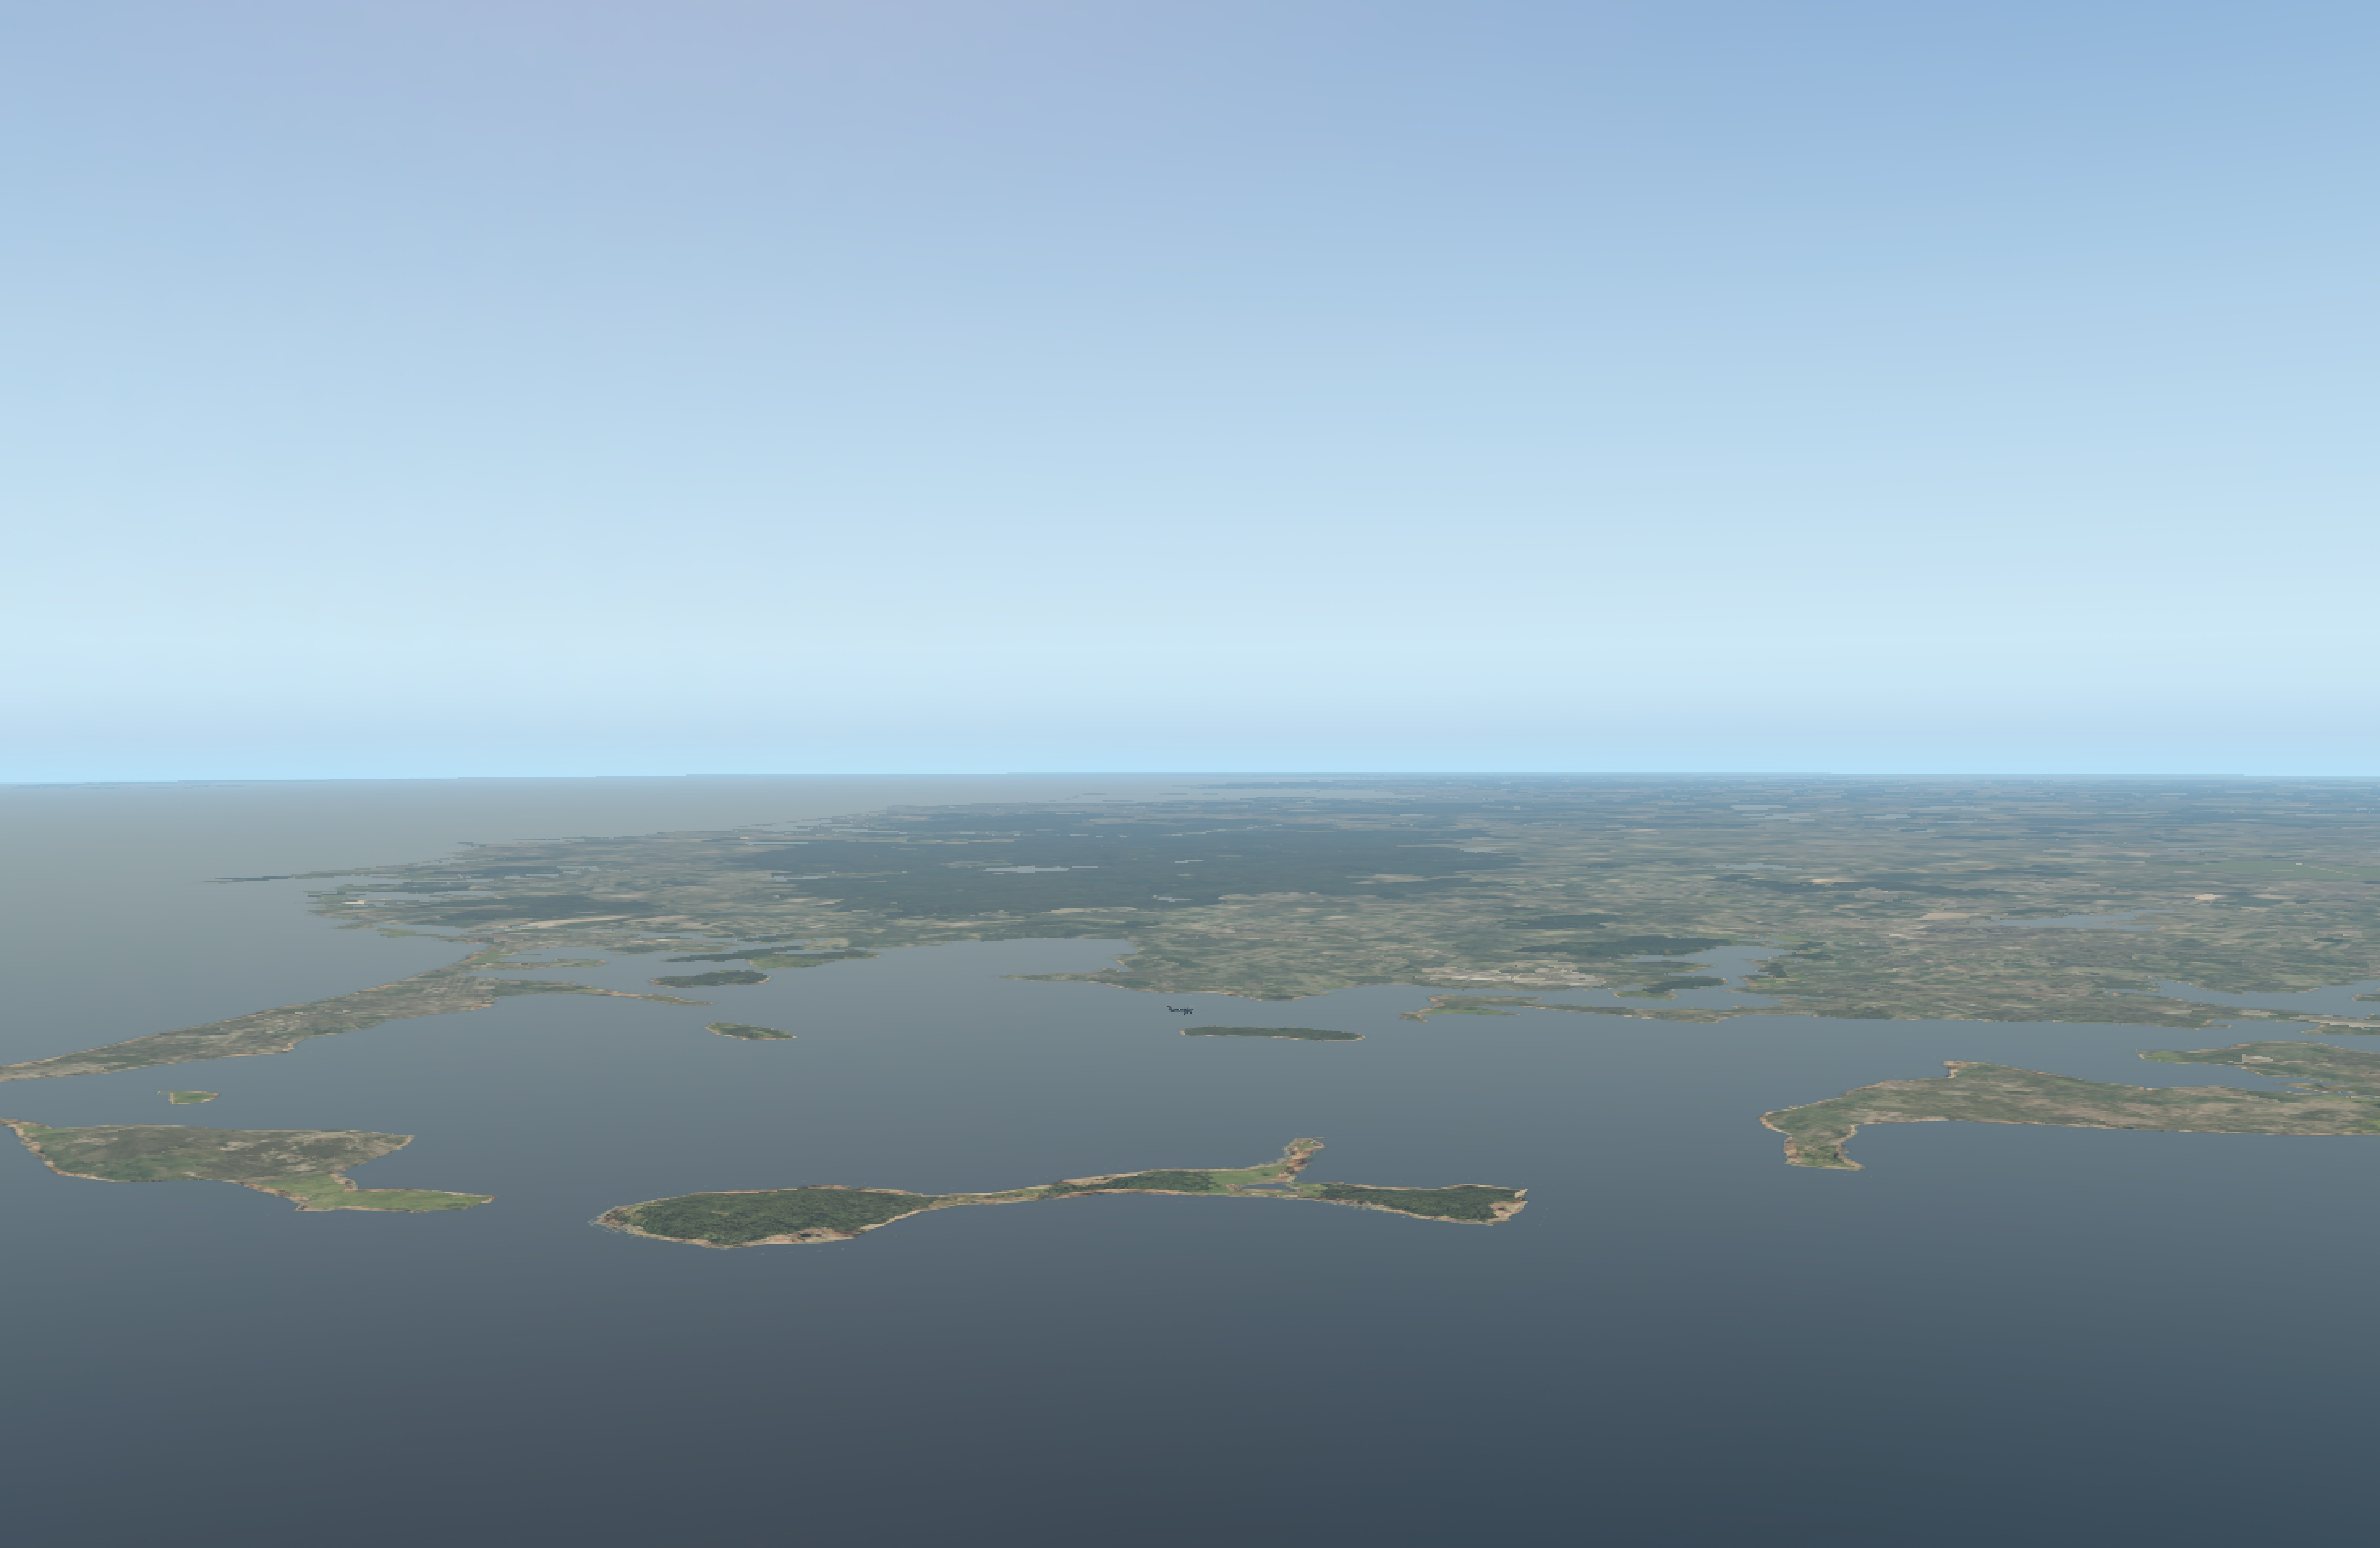aircraft: (1173, 1005, 1199, 1015)
